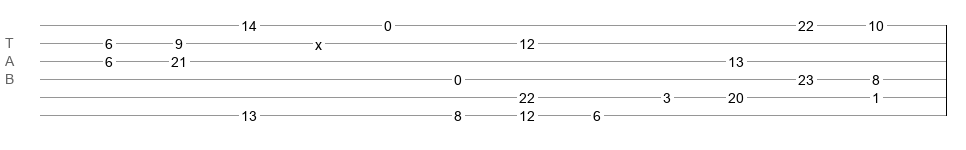0: (384, 18, 392, 28), (454, 72, 462, 82)
1: (872, 90, 880, 100)
10: (868, 18, 884, 28)
12: (519, 36, 535, 46), (519, 108, 535, 118)
13: (241, 108, 257, 118), (728, 54, 744, 64)
14: (241, 18, 257, 28)
20: (728, 90, 744, 100)
21: (171, 54, 187, 64)
22: (519, 90, 535, 100), (798, 18, 814, 28)
23: (798, 72, 814, 82)
3: (663, 90, 671, 100)
6: (105, 36, 113, 46), (105, 54, 113, 64), (593, 108, 601, 118)
8: (454, 108, 462, 118), (872, 72, 880, 82)
9: (175, 36, 183, 46)
x: (315, 37, 322, 45)
